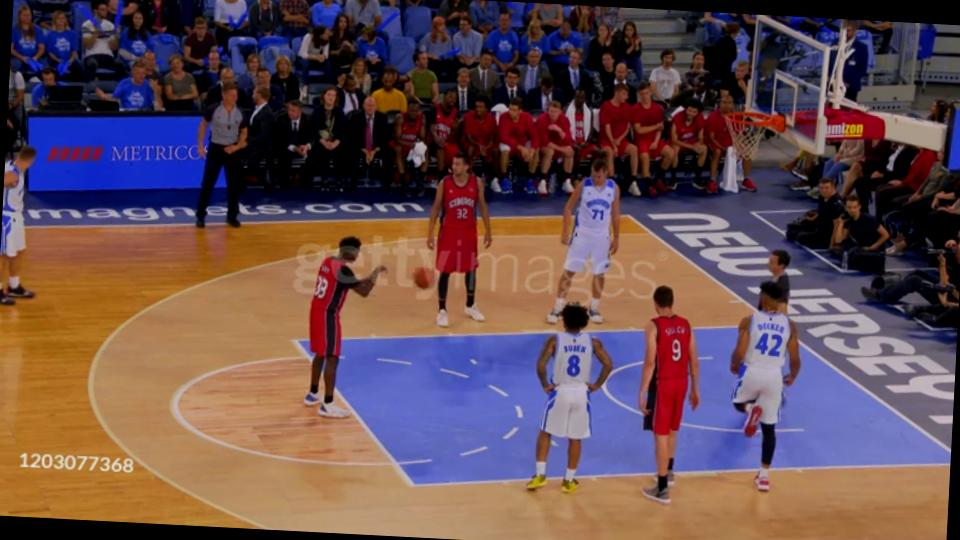hoop: (722, 105, 790, 134)
